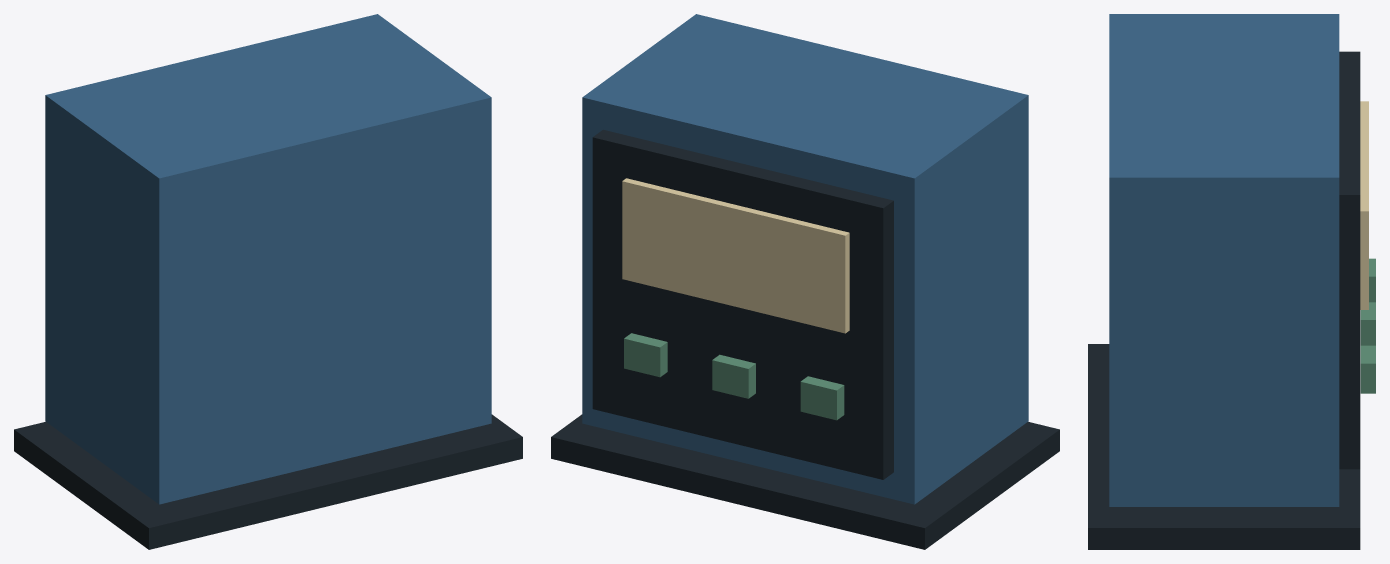
File: field-terminal.obj
3 views of the same model, side by side, from view 1: azimuth 30°, elevation 25°; view 2: azimuth 150°, elevation 25°; view 3: azimuth 270°, elevation 25° (orthographic).
Size of the model in its own units: 0.72 by 0.66 by 0.4755.
